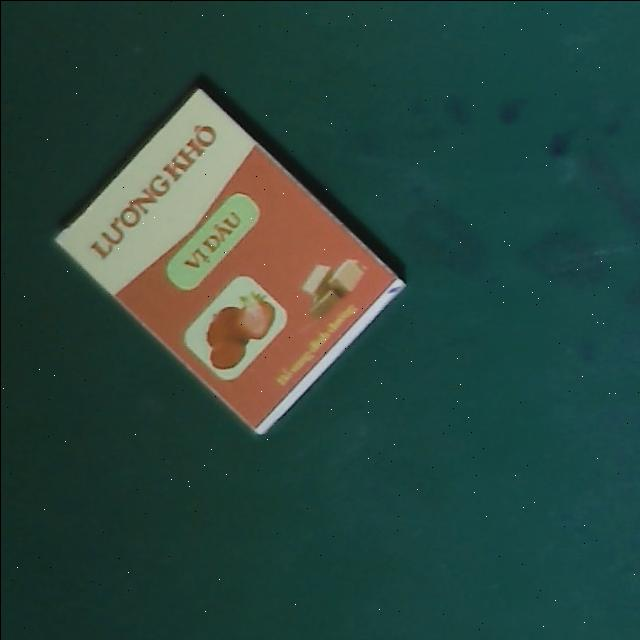dau: (51, 86, 407, 439)
